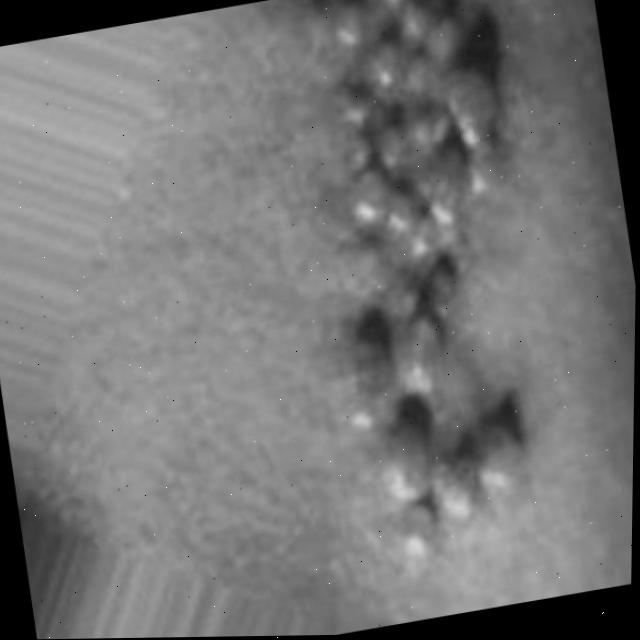Shingles: (281, 0, 557, 551)
